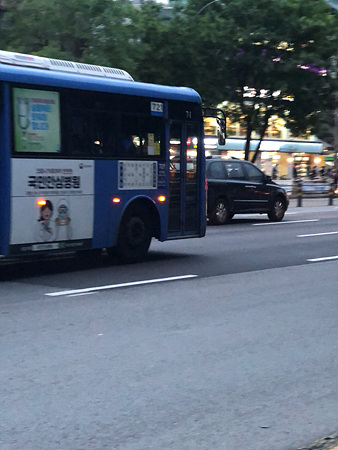entrance: (166, 113, 204, 239)
